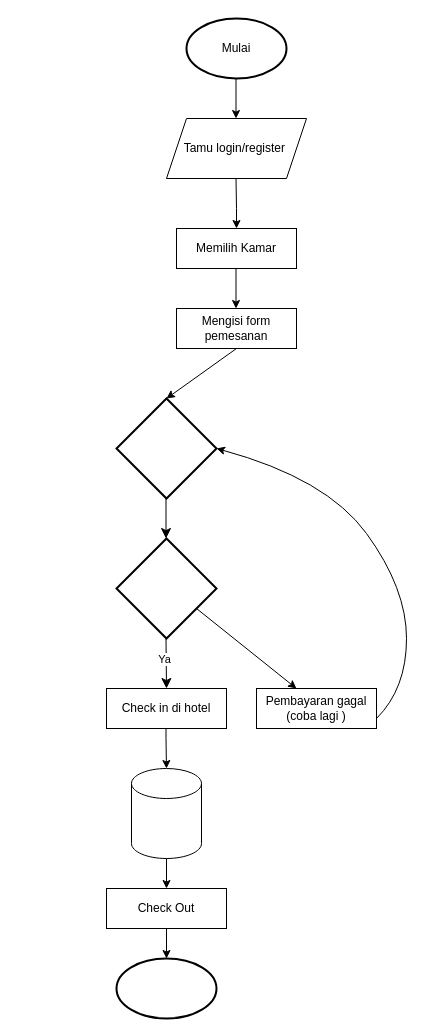
The diagram is 424 pixels wide and 1036 high, and some of its shapes have lost their labels. Here are the shapes that lost their labels. From the top down, the centre of each, then its label:
the point at 166,448: Konfirmasi pembayaran
the point at 166,588: Pembayaran berhasil ?
the point at 166,813: Database pemesanan hotel
the point at 166,988: Selesai
